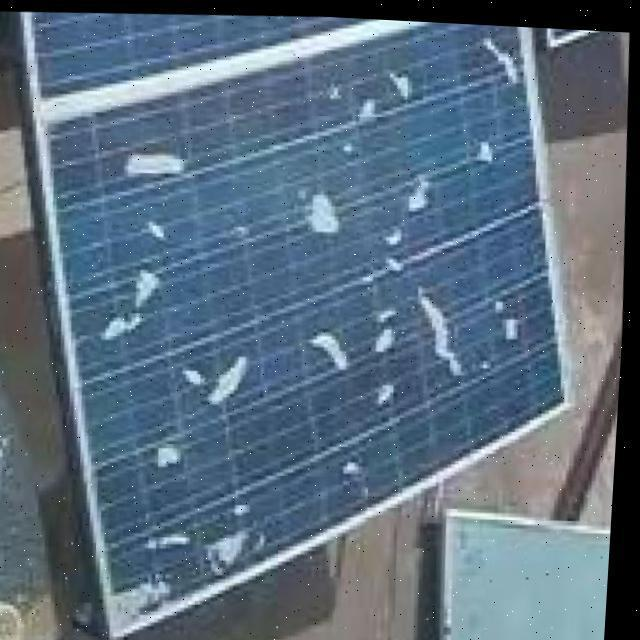Anomaly Solar Panel: (0, 18, 623, 632)
Snow: (323, 51, 440, 155), (99, 250, 186, 356), (369, 165, 449, 280), (406, 273, 478, 379), (101, 563, 191, 640), (196, 512, 267, 582), (184, 345, 258, 412), (471, 23, 534, 88), (119, 139, 192, 195), (355, 295, 412, 365), (303, 316, 365, 378), (495, 286, 534, 340), (146, 523, 208, 556), (301, 191, 346, 234), (472, 129, 500, 162), (157, 443, 189, 468)
